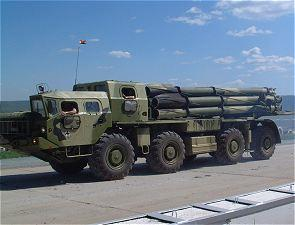MIL_SAM_TEL: (0, 78, 287, 181)
